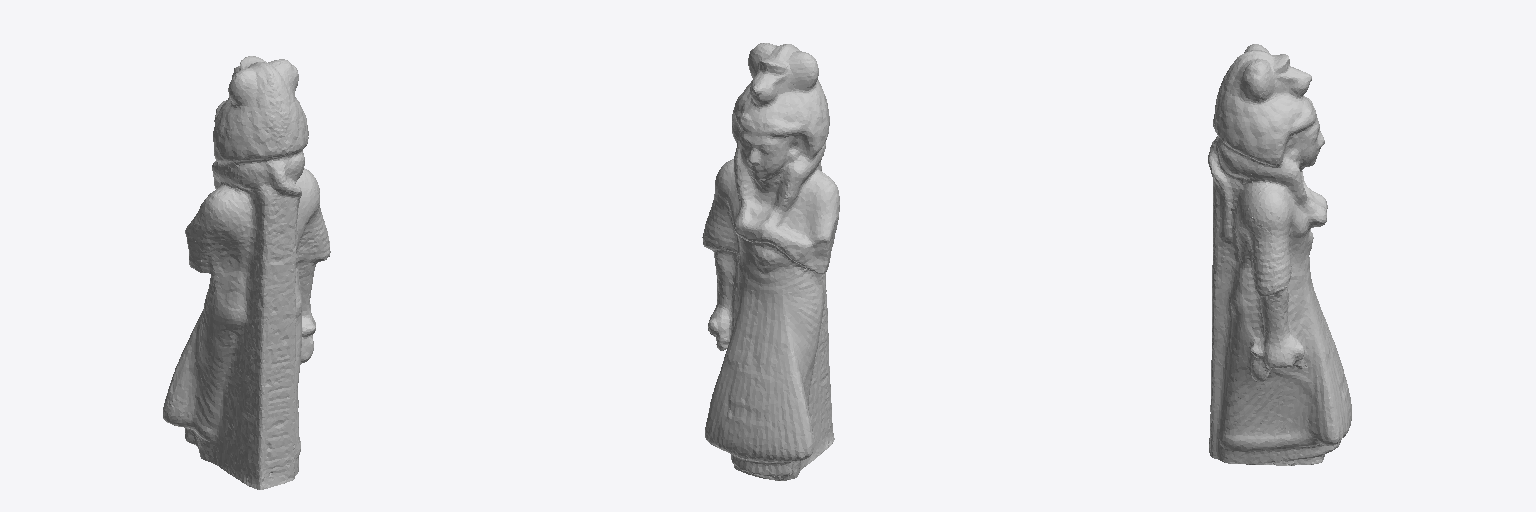
Rendered from 6statue_30k_4096.obj.
The picture shows the model from 3 angles: view 1: azimuth 30°, elevation 25°; view 2: azimuth 150°, elevation 25°; view 3: azimuth 270°, elevation 25°; orthographic projection.
Visible parts, largest first — view 1: statue_30k_4096; view 2: statue_30k_4096; view 3: statue_30k_4096.
Boxes of the visible parts, x1,y1,x2,y2 form: statue_30k_4096: [163, 56, 330, 489]; statue_30k_4096: [702, 43, 839, 480]; statue_30k_4096: [1208, 44, 1351, 465].
Bounding box in the file's own units: 2.42 × 6.88 × 2.22.